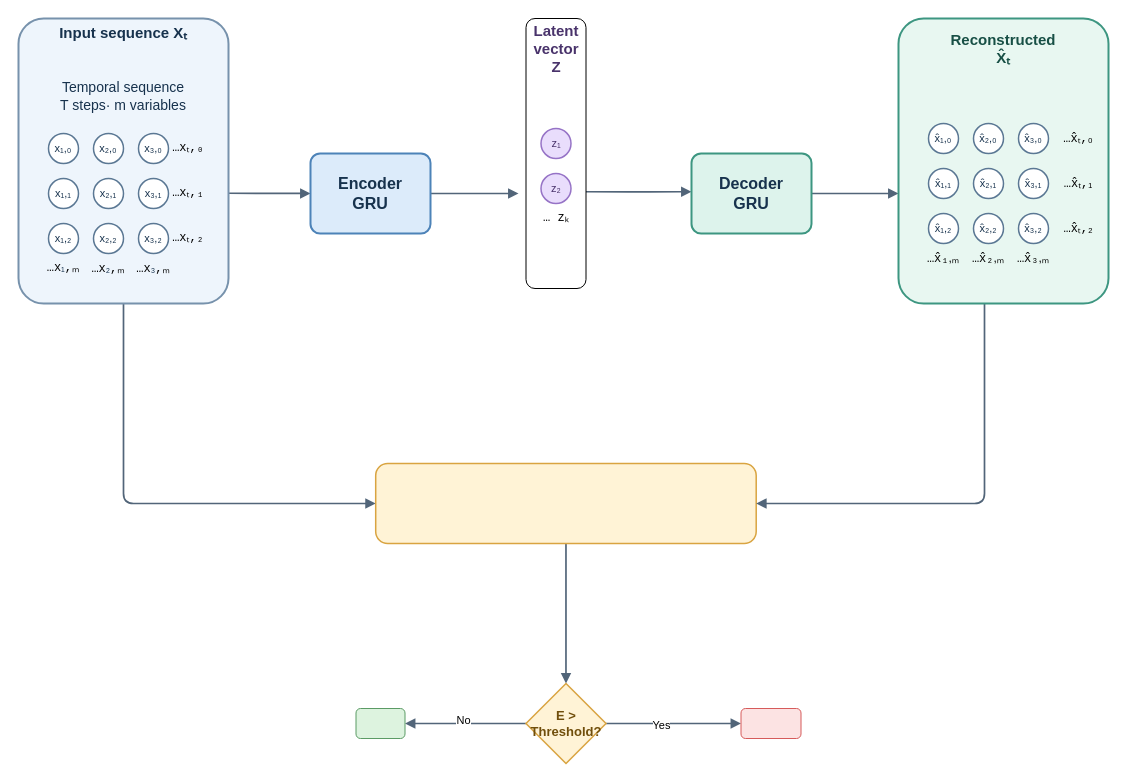
Image size: 1126x781. Some labels were removed from this diagram. Each missing label, with the centre of its shape:
Anomaly: the point at 770,723
Normal: the point at 380,723
Reconstruction Error E = ‖X − X̂‖²: the point at 565,503
